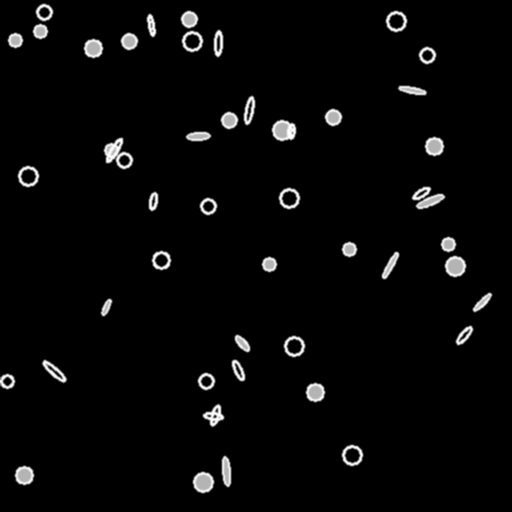pseudomonas: (41, 359, 67, 383), (104, 137, 124, 163), (415, 193, 445, 209), (381, 252, 399, 278), (472, 292, 492, 312), (455, 325, 473, 345), (411, 185, 431, 201), (234, 334, 250, 352), (221, 457, 231, 485), (231, 360, 245, 380), (244, 96, 254, 124), (398, 85, 426, 95), (209, 405, 221, 425), (100, 299, 112, 315), (214, 31, 222, 55), (147, 14, 155, 36), (187, 132, 209, 140), (204, 412, 222, 420), (149, 193, 157, 209), (287, 123, 295, 139)
synechocystis: (285, 337, 303, 355), (280, 189, 298, 207), (194, 473, 212, 491), (387, 12, 405, 30), (19, 167, 37, 185), (183, 32, 201, 50), (446, 257, 464, 275), (343, 446, 361, 464), (273, 121, 291, 139), (153, 252, 169, 268), (426, 138, 442, 154), (16, 467, 32, 483), (85, 40, 101, 56), (307, 384, 323, 400), (222, 113, 236, 127), (182, 12, 196, 26), (37, 5, 51, 19), (117, 153, 131, 167), (420, 48, 434, 62), (201, 199, 215, 213), (326, 110, 340, 124), (199, 374, 213, 388), (122, 34, 136, 48), (9, 34, 21, 46), (1, 375, 13, 387), (263, 258, 275, 270), (442, 238, 454, 250), (34, 25, 46, 37), (105, 144, 117, 156), (343, 243, 355, 255)
